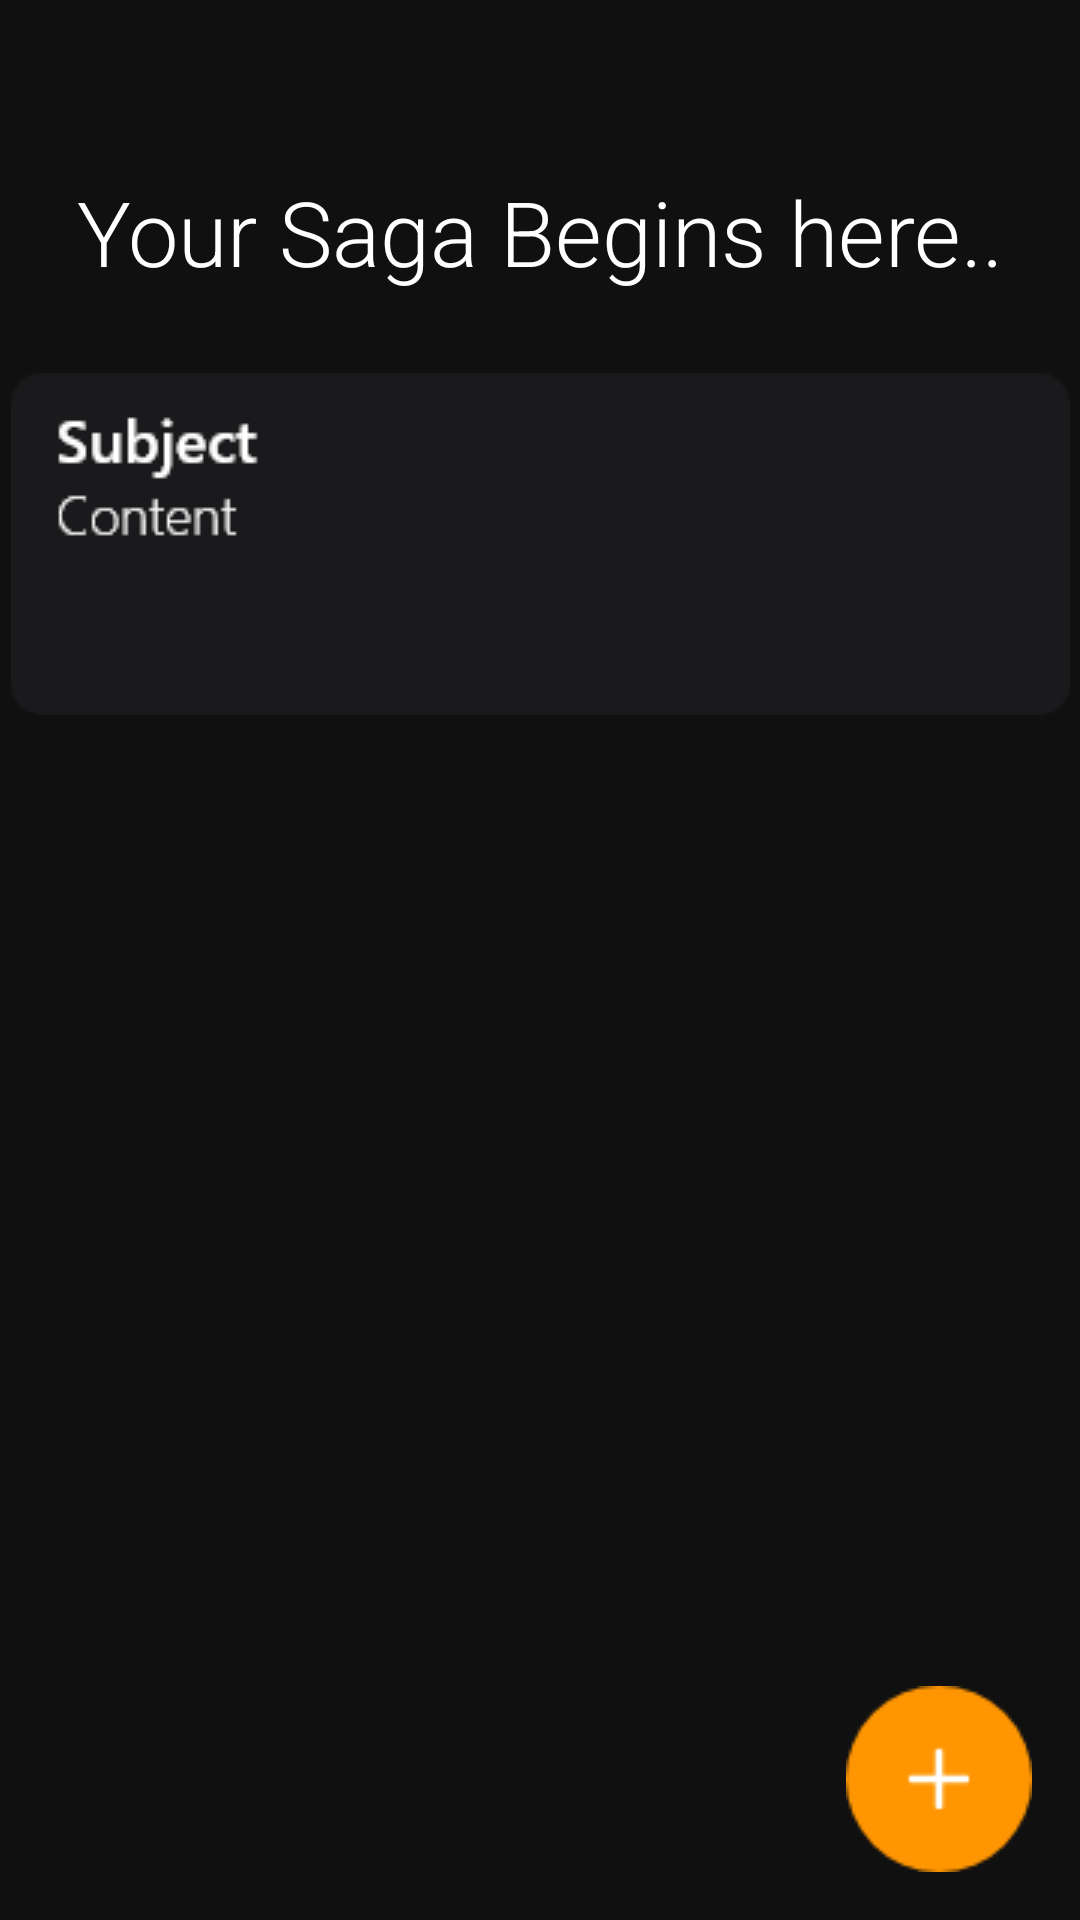

Point at icon controls on the screen. Image size 1080w x 1920h, points as (x,y).
addbutton: (939,1779)
